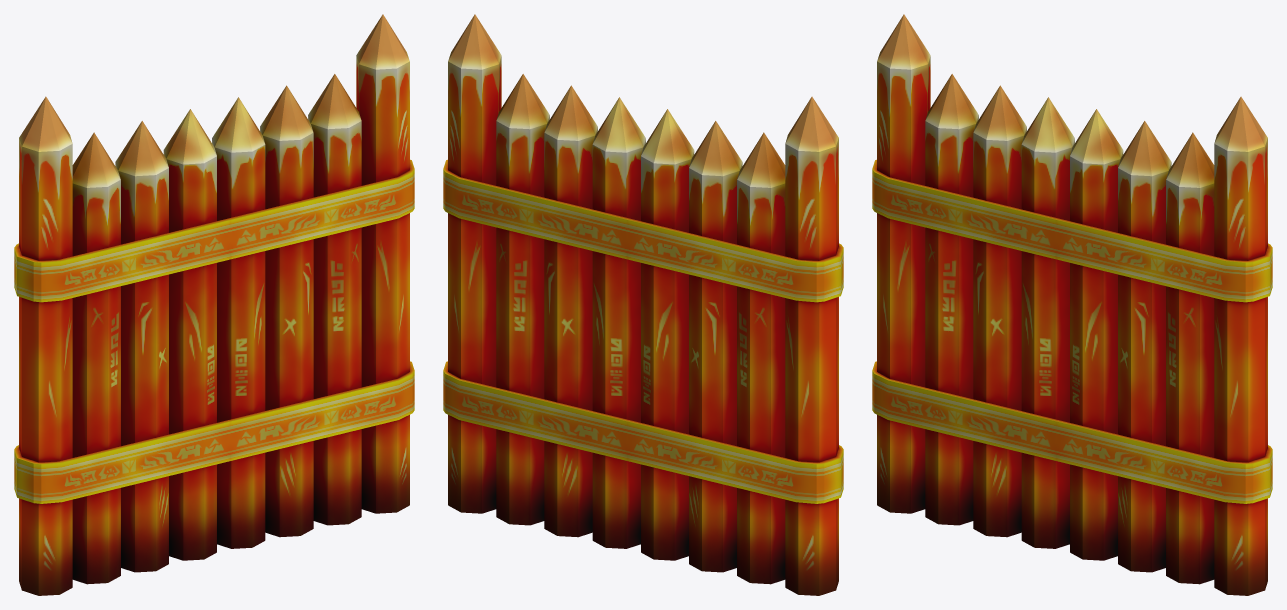
The model's file is 1st_saku.FBX.
3 renders of one model, left to right at view 1: azimuth 30°, elevation 25°; view 2: azimuth 150°, elevation 25°; view 3: azimuth 330°, elevation 25°, orthographic.
Parts seen in each view (by area): view 1: obj1; view 2: obj1; view 3: obj1.
Boxes of the visible parts, x1=… form: obj1: x1=14, y1=14, x2=414, y2=595; obj1: x1=443, y1=14, x2=843, y2=595; obj1: x1=872, y1=14, x2=1272, y2=595.
Size of the model in its own units: 113 by 133 by 15.58.
